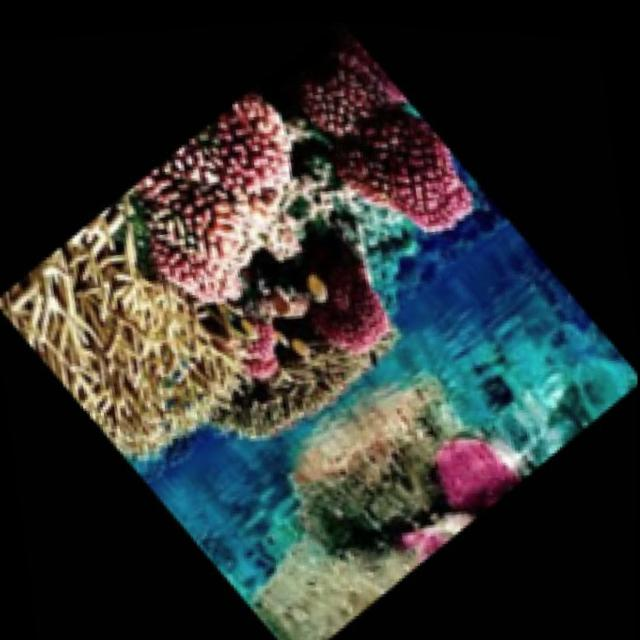Dead Coral: (202, 337, 365, 443)
